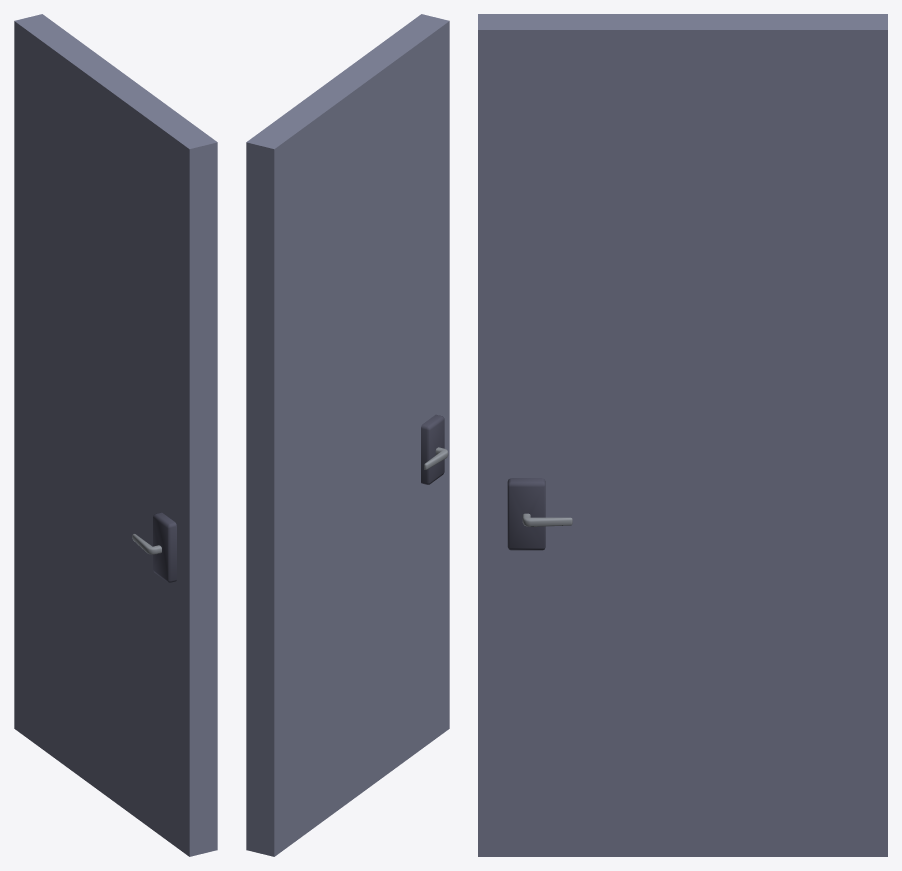
File: SM_Buildings_Commercial_18_Door.fbx
The picture shows the model from 3 angles, left to right: view 1: azimuth 30°, elevation 25°; view 2: azimuth 150°, elevation 25°; view 3: azimuth 270°, elevation 25°; orthographic projection. The views are drawn at different scales.
Parts seen in each view (by area): view 1: SM_Buildings_Commercial_18_Door; view 2: SM_Buildings_Commercial_18_Door; view 3: SM_Buildings_Commercial_18_Door.
Part boxes in pixels (left/top/right/bottom): SM_Buildings_Commercial_18_Door: left=14, top=14, right=217, bottom=856; SM_Buildings_Commercial_18_Door: left=246, top=14, right=449, bottom=856; SM_Buildings_Commercial_18_Door: left=478, top=14, right=887, bottom=856.
Bounding box in the file's own units: 0.242 × 2.39 × 1.08.
